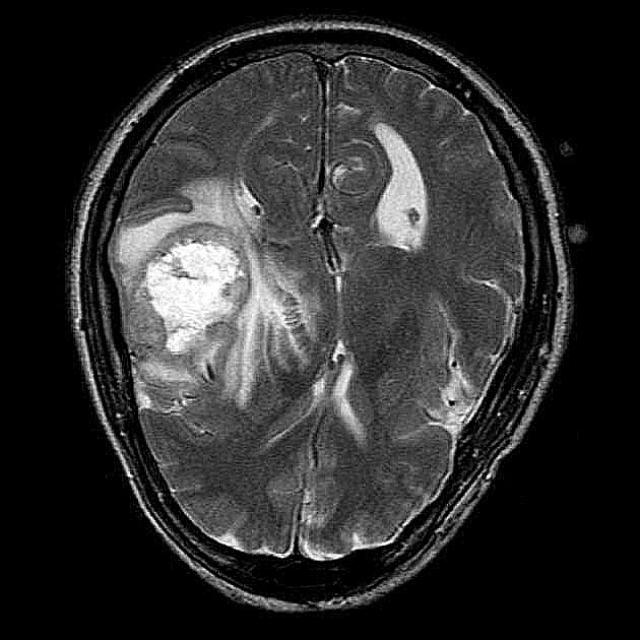Tumor-Cell: (124, 202, 280, 398)
